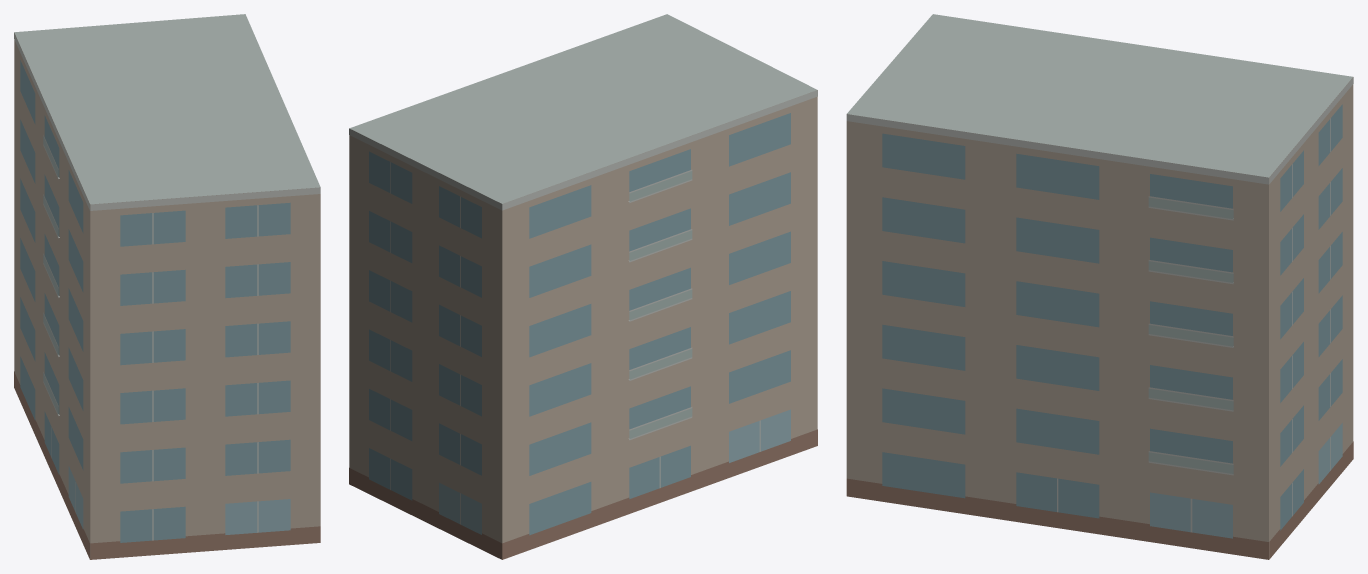
File: survey-upis-32890868.glb
3 views of the same model, side by side, from view 1: azimuth 30°, elevation 25°; view 2: azimuth 150°, elevation 25°; view 3: azimuth 270°, elevation 25° (orthographic). The views are drawn at different scales.
Visible parts, largest first — view 1: survey-upis-32890868.tmp; view 2: survey-upis-32890868.tmp; view 3: survey-upis-32890868.tmp.
Part boxes in pixels (bbox=[...]): survey-upis-32890868.tmp: bbox=[14, 14, 320, 559]; survey-upis-32890868.tmp: bbox=[349, 14, 817, 559]; survey-upis-32890868.tmp: bbox=[846, 14, 1353, 559].
Size of the model in its own units: 12.12 by 13.2 by 15.87.
